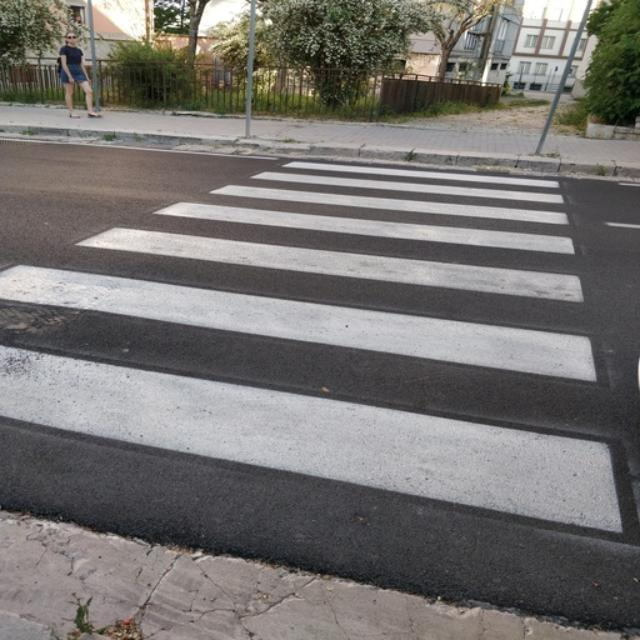sidewalk: (0, 149, 629, 640)
